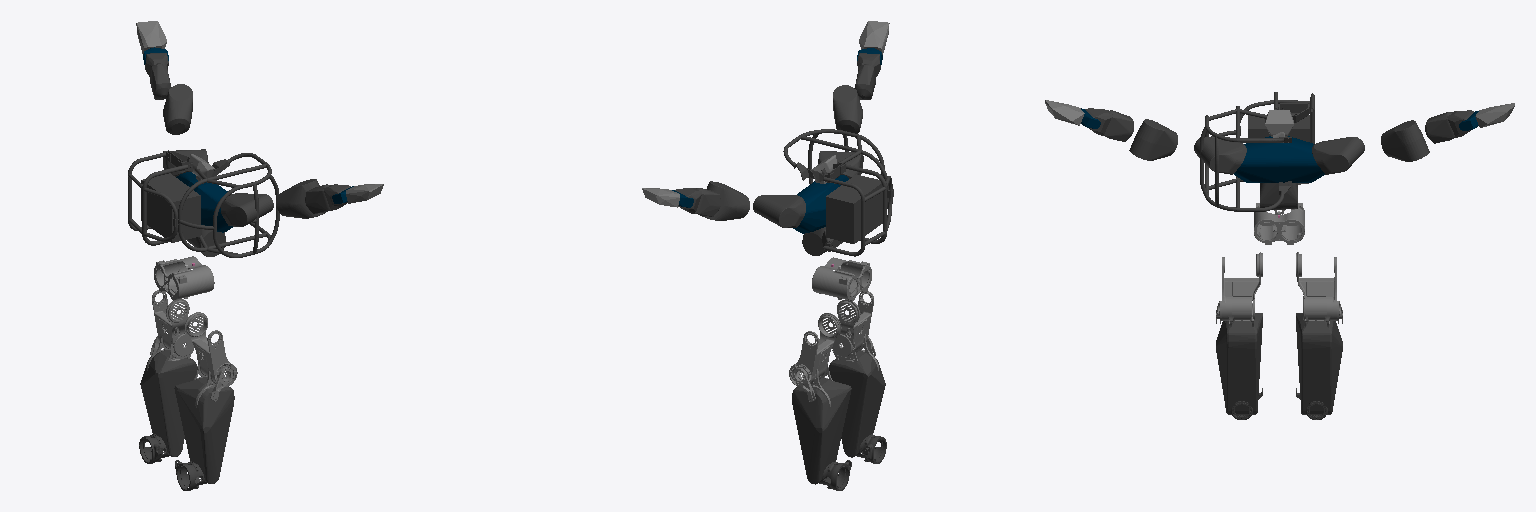
--- Facts derived from the render (not from the file) ---
3 views of the same robot in one strip: view 1: azimuth 30°, elevation 25°; view 2: azimuth 150°, elevation 25°; view 3: azimuth 270°, elevation 25° (orthographic).
Model bigman with 72 links and 71 joints (31 revolute, 40 fixed), rooted at base_link, posed all joints at 0 but 2 set to mid-range because 0 is outside their limits (RShLat = -1.99, LShLat = 1.97).
Visible links, largest first — view 1: TorsoProtections, RLowLeg, LLowLeg, backpack, RThighLowLeg, LThighLowLeg, Waist, RShp, LShy, DWYTorso, RShy, LSoftHandLink (+4 smaller); view 2: LLowLeg, RLowLeg, TorsoProtections, backpack, LThighLowLeg, RThighLowLeg, Waist, LShp, DWYTorso, RShy, LShy, RSoftHandLink (+4 smaller); view 3: LLowLeg, RLowLeg, TorsoProtections, DWYTorso, LThighLowLeg, RThighLowLeg, Waist, LShp, LShy, RShy, RShp, DWS (+6 smaller).
Link boxes in pixels (x1=…): TorsoProtections: x1=128, y1=150, x2=279, y2=257; RLowLeg: x1=174, y1=377, x2=234, y2=483; LLowLeg: x1=140, y1=350, x2=196, y2=456; backpack: x1=141, y1=173, x2=200, y2=242; RThighLowLeg: x1=185, y1=312, x2=237, y2=407; LThighLowLeg: x1=147, y1=290, x2=193, y2=370; Waist: x1=154, y1=256, x2=214, y2=300; RShp: x1=220, y1=193, x2=273, y2=226; LShy: x1=163, y1=84, x2=192, y2=134; DWYTorso: x1=176, y1=172, x2=232, y2=232; RShy: x1=276, y1=179, x2=324, y2=218; LSoftHandLink: x1=136, y1=21, x2=166, y2=53; LLowLeg: x1=792, y1=378, x2=851, y2=484; RLowLeg: x1=829, y1=351, x2=885, y2=457; TorsoProtections: x1=783, y1=129, x2=893, y2=256; backpack: x1=826, y1=174, x2=882, y2=243; LThighLowLeg: x1=789, y1=313, x2=841, y2=408; RThighLowLeg: x1=832, y1=291, x2=878, y2=370; Waist: x1=812, y1=257, x2=871, y2=301; LShp: x1=753, y1=195, x2=805, y2=227; DWYTorso: x1=793, y1=175, x2=848, y2=233; RShy: x1=833, y1=85, x2=862, y2=133; LShy: x1=702, y1=181, x2=749, y2=220; RSoftHandLink: x1=859, y1=21, x2=889, y2=54; LLowLeg: x1=1296, y1=313, x2=1342, y2=414; RLowLeg: x1=1216, y1=313, x2=1262, y2=414; TorsoProtections: x1=1200, y1=92, x2=1314, y2=211; DWYTorso: x1=1234, y1=136, x2=1324, y2=182; LThighLowLeg: x1=1296, y1=252, x2=1342, y2=327; RThighLowLeg: x1=1216, y1=252, x2=1262, y2=326; Waist: x1=1254, y1=203, x2=1304, y2=244; LShp: x1=1312, y1=137, x2=1364, y2=174; LShy: x1=1381, y1=120, x2=1429, y2=161; RShy: x1=1129, y1=119, x2=1177, y2=160; RShp: x1=1194, y1=137, x2=1246, y2=174; DWS: x1=1260, y1=183, x2=1297, y2=209.
Bounding box of the posed robot: 0.7354 × 2.28 × 1.88 m (x, y, z).
Meshes: 21 distinct files referenced, 24 mesh visuals loaded (15 binary STL); not drawn: 2 (reference not matched to a file when rendering), 9 (file found but could not be loaded).

URDF robot description (bigman):
<?xml version="1.0" ?>
<!-- =================================================================================== -->
<!-- |    This document was autogenerated by xacro from bigman.urdf.xacro              | -->
<!-- |    EDITING THIS FILE BY HAND IS NOT RECOMMENDED                                 | -->
<!-- =================================================================================== -->
<robot name="bigman" xmlns:xacro="http://ros.org/wiki/xacro">
  <!-- 
  ROS urdf definition of the BIGMAN humanoid robot by Istituto Italiano di Tecnologia
  
  DO NOT INCLUDE THIS FILE DIRECTLY! USE bigman_robot.urdf.xacro INSTEAD!

  Author: Enrico Mingo & Alessio Rocchi

  Inertial matrix has to be in CoM frame (URDF specs)

  Velocity and effort limits are fake!
-->
  <material name="grey">
    <color rgba="0.5 0.5 0.5 1"/>
  </material>
  <material name="dark_grey">
    <color rgba="0.3 0.3 0.3 1"/>
  </material>
  <material name="blue">
    <color rgba="0.0 0.2 0.3 1"/>
  </material>
  <!-- 
  ROS urdf definition of the BIGMAN humanoid robot by Istituto Italiano di Tecnologia
  
  DO NOT INCLUDE THIS FILE DIRECTLY! USE bigman_robot.urdf.xacro INSTEAD!

  Author: Enrico Mingo & Alessio Rocchi

  Inertial matrix has to be in CoM frame (URDF specs)

  Velocity and effort limits are fake!
-->
  <!--
The coordinate frame called base_link is rigidly attached to the robot root body. It is recommended to choose the robot waist as its root body. The base_link can be attached to the root in any arbitrary position or orientation; for every hardware platform there will be a different place on the base that provides an obvious point of reference. Note that REP 103 [1] specifies a preferred orientation for frames. -->
  <link name="base_link"/>
  <link name="Waist">
    <inertial>
      <origin rpy="0.0 0.0 0.0" xyz="-0.022813402 -0.00073935443 0.030422909"/>
      <mass value="1.1046081e+01"/>
      <inertia ixx="0.096207978" ixy="0.00014081043" ixz="0.0031258127" iyy="0.098511158" iyz="0.00013938149" izz="0.086541531"/>
    </inertial>
    <visual>
      <origin rpy="0 0 0" xyz="0 0 0"/>
      <geometry name="Waist_visual">
        <mesh filename="package://bigman_urdf/meshes/Waist.STL" scale="0.001 0.001 0.001"/>
      </geometry>
      <material name="grey"/>
    </visual>
    <collision>
      <origin rpy="0 0 0" xyz="0 0 0"/>
      <geometry name="Waist_collision">
        <mesh filename="package://bigman_urdf/meshes/simple/Waist.STL" scale="0.001 0.001 0.001"/>
      </geometry>
    </collision>
  </link>
  <joint name="base_joint" type="fixed">
    <parent link="base_link"/>
    <child link="Waist"/>
    <origin rpy="0 0 0" xyz="0 0 0"/>
  </joint>
  <!-- Scale factor for meshes -->
  <!-- LINKS -->
  <!-- This links are defined in order to be compliant with http://www.ros.org/reps/rep-0120.html#coordinate-frames
and to define the end effectors of the robot-->
  <!-- The coordinate frame called torso is attached to the lowest body of the model which is a parent of l_gripper, r_gripper and gaze. -->
  <link name="torso"/>
  <link name="DWL">
    <inertial>
      <origin rpy="0 0 0" xyz="-0.04610869 0.02232230 -0.02249514"/>
      <mass value="1.44965471"/>
      <inertia ixx="0.01096760" ixy="0.00111556" ixz="0.00030030" iyy="0.00409572" iyz="0.00054456" izz="0.01143795"/>
    </inertial>
    <visual>
      <origin rpy="0 0 0" xyz="0.0 0.0 0.0"/>
      <geometry name="DWL_visual">
        <mesh filename="package://bigman_urdf/meshes/TorsoRoll.STL" scale="0.001 0.001 0.001"/>
      </geometry>
      <material name="dark_grey"/>
    </visual>
    <collision>
      <origin rpy="0 0 0" xyz="0.0 0.0 0.0"/>
      <geometry name="DWL_collision">
        <mesh filename="package://bigman_urdf/meshes/simple/TorsoRoll.STL" scale="0.001 0.001 0.001"/>
      </geometry>
    </collision>
  </link>
  <link name="DWS">
    <inertial>
      <origin rpy="0 0 0" xyz="0.00010203 0.00928164 0.08113610"/>
      <mass value="5.28825567"/>
      <inertia ixx="0.01628069" ixy="-0.00000323" ixz="0.00001424" iyy="0.01424286" iyz="0.00075458" izz="0.00994169"/>
    </inertial>
    <visual>
      <origin rpy="0 0 0" xyz="0.0 0.0 0.0"/>
      <geometry name="DWS_visual">
        <mesh filename="package://bigman_urdf/meshes/TorsoYawPitch.STL" scale="0.001 0.001 0.001"/>
      </geometry>
      <material name="dark_grey"/>
    </visual>
    <collision>
      <origin rpy="0 0 0" xyz="0.0 0.0 0.0"/>
      <geometry name="DWS_collision">
        <mesh filename="package://bigman_urdf/meshes/simple/TorsoYawPitch.STL" scale="0.001 0.001 0.001"/>
      </geometry>
    </collision>
  </link>
  <link name="DWYTorso">
    <inertial>
      <origin rpy="0 0 0" xyz="0.0 0.00 0.3"/>
      <mass value="26"/>
      <inertia ixx="0.18629757" ixy="0.00008160" ixz="0.00030250" iyy="0.02013829" iyz="-0.00001790" izz="0.18850541"/>
    </inertial>
    <visual>
      <origin rpy="0 0 0" xyz="0.0 0.0 0.0"/>
      <geometry name="DWYTorso_visual">
        <mesh filename="package://bigman_urdf/meshes/NewChest.STL" scale="0.001 0.001 0.001"/>
      </geometry>
      <material name="blue"/>
    </visual>
    <collision>
      <origin rpy="0 0 0" xyz="0.0 0.0 0.0"/>
      <geometry name="DWYTorso_collision">
        <mesh filename="package://bigman_urdf/meshes/simple/NewChest.STL" scale="0.001 0.001 0.001"/>
      </geometry>
    </collision>
  </link>
  <link name="TorsoProtections">
    <inertial>
      <origin rpy="0 0 0" xyz="-0.082963193 7.0747291e-07 0.075409106"/>
      <mass value="4.7"/>
      <inertia ixx="0.14773769" ixy="0.0" ixz="-0.029780072" iyy="0.16085511" iyz="0.0" izz="0.15409381"/>
    </inertial>
    <visual>
      <origin rpy="0 0 0" xyz="0.0 0.0 0.0"/>
      <geometry name="TorsoProtections_visual">
        <mesh filename="package://bigman_urdf/meshes/ProtectionSystem.STL" scale="0.001 0.001 0.001"/>
      </geometry>
      <material name="dark_grey"/>
    </visual>
    <collision>
      <origin rpy="0 0 0" xyz="0.0 0.0 0.0"/>
      <geometry name="TorsoProtections_collision">
        <mesh filename="package://bigman_urdf/meshes/simple/ProtectionSystem.STL" scale="0.001 0.001 0.001"/>
      </geometry>
    </collision>
  </link>
  <link name="backpack">
    <inertial>
      <origin rpy="0 0 0" xyz="0 0 -0.065"/>
      <mass value="10.0"/>
      <inertia ixx="0.0890833333333" ixy="0.0" ixz="0.0" iyy="0.0354166666667" iyz="0.0" izz="0.0963333333333"/>
    </inertial>
    <visual>
      <origin rpy="0 0 0" xyz="0.0 0.0 0.0"/>
      <geometry name="backpack_visual">
        <box size="0.16 0.3 0.22"/>
      </geometry>
      <material name="dark_grey"/>
    </visual>
    <collision>
      <origin rpy="0 0 0" xyz="0.0 0.0 0.0"/>
      <geometry name="backpack_collision">
        <box size="0.16 0.3 0.22"/>
      </geometry>
    </collision>
  </link>
  <joint name="backpack_joint" type="fixed">
    <parent link="DWYTorso"/>
    <child link="backpack"/>
    <origin rpy="0 0 0" xyz="-0.185 0 -0.025"/>
  </joint>
  <joint name="torso_protection_joint" type="fixed">
    <parent link="DWYTorso"/>
    <child link="TorsoProtections"/>
    <origin rpy="0 0 0" xyz="0.0 0 0.0"/>
  </joint>
  <joint name="torso_joint" type="fixed">
    <parent link="DWYTorso"/>
    <child link="torso"/>
    <origin rpy="0 0 0" xyz="0.0 0 0.0"/>
  </joint>
  <joint name="WaistLat" type="revolute">
    <parent link="Waist"/>
    <child link="DWL"/>
    <origin rpy="0 0 0" xyz="0.1115 0 0.195982"/>
    <axis xyz="0.89879991307 0 0.43835911792"/>
    <limit effort="120" lower="-0.610865238198" upper="0.610865238198" velocity="6.283"/>
    <dynamics damping="3.0" friction="0"/>
  </joint>
  <joint name="WaistSag" type="revolute">
    <parent link="DWL"/>
    <child link="DWS"/>
    <origin rpy="0 0 0" xyz="0 0 0"/>
    <axis xyz="0 1 0"/>
    <limit effort="220" lower="-0.349065850399" upper="1.3962634016" velocity="6.283"/>
    <dynamics damping="3.0" friction="0"/>
  </joint>
  <joint name="WaistYaw" type="revolute">
    <parent link="DWS"/>
    <child link="DWYTorso"/>
    <origin rpy="0 0 0" xyz="0 0 0.22275"/>
    <axis xyz="0 0 1"/>
    <limit effort="120" lower="-2.84488668075" upper="2.84488668075" velocity="6.283"/>
    <dynamics damping="3.0" friction="0"/>
  </joint>
  <!-- LINKS -->
  <link name="NeckYaw">
    <inertial>
      <origin rpy="0 0 0" xyz="0.0 0.0 0.1155"/>
      <mass value="0.35"/>
      <inertia ixx="0.00032840119" ixy="0.0" ixz="0.0" iyy="7.0371675e-05" iyz="0.0" izz="0.00032840111"/>
    </inertial>
    <visual>
      <origin rpy="0 0 0" xyz="0.0 0.0 0.0"/>
      <geometry name="NeckYaw_visual">
        <mesh filename="package://bigman_urdf/meshes/NeckYaw.STL" scale="0.001 0.001 0.001"/>
      </geometry>
      <material name="grey"/>
    </visual>
    <collision>
      <origin rpy="0 0 0" xyz="0.0 0.0 0.0"/>
      <geometry name="NeckYaw_collision">
        <mesh filename="package://bigman_urdf/meshes/simple/NeckYaw.STL" scale="0.001 0.001 0.001"/>
      </geometry>
    </collision>
  </link>
  <link name="NeckPitch">
    <inertial>
      <origin rpy="0 0 0" xyz="-0.102 0.0 0.26575"/>
      <mass value="0.623"/>
      <inertia ixx="0.0010388333" ixy="0.0" ixz="0.0" iyy="0.00054689381" iyz="0.0" izz="0.00054689381"/>
    </inertial>
    <visual>
      <origin rpy="0 0 0" xyz="0.0 0.0 0.0"/>
      <geometry name="NeckPitch_visual">
        <mesh filename="package://bigman_urdf/meshes/NeckPitch.STL" scale="0.001 0.001 0.001"/>
      </geometry>
      <material name="grey"/>
    </visual>
    <collision>
      <origin rpy="0 0 0" xyz="0.0 0.0 0.0"/>
      <geometry name="NeckPitch_collision">
        <mesh filename="package://bigman_urdf/meshes/simple/NeckPitch.STL" scale="0.001 0.001 0.001"/>
      </geometry>
    </collision>
  </link>
  <!-- JOINTS -->
  <joint name="NeckYawj" type="revolute">
    <parent link="DWYTorso"/>
    <child link="NeckYaw"/>
    <origin rpy="0 0 0" xyz="0 0 0"/>
    <axis xyz="0 0 1"/>
    <!--     <limit velocity="6.283" effort="120" lower="${(-175.0)*toRad}" upper="${(175.0)*toRad}" /> -->
    <limit effort="120" lower="-0.610865238198" upper="0.610865238198" velocity="6.283"/>
    <dynamics damping="3.0" friction="0"/>
  </joint>
  <joint name="NeckPitchj" type="revolute">
    <parent link="NeckYaw"/>
    <child link="NeckPitch"/>
    <origin rpy="0 0 0" xyz="0 0 0.117"/>
    <axis xyz="0 1 0"/>
    <!--limit velocity="6.283" effort="120" lower="${(-30.0)*toRad}" upper="${(70.0)*toRad}" /-->
    <limit effort="120" lower="-0.261799387799" upper="1.0471975512" velocity="6.283"/>
    <dynamics damping="3.0" friction="0"/>
  </joint>
  <!-- ********************LEGS******************** -->
  <!-- This links are defined in order to be compliant with http://www.ros.org/reps/rep-0120.html#coordinate-frames
	and to define the end effectors of the robot -->
  <!--  position and orientation of the leg regardless of the support body geometry -->
  <link name="l_ankle"/>
  <link name="r_ankle"/>
  <!-- position and orientation of the left leg support body. The (X,Y) plane of this frame must be coplanar with the support body contact surface. It is recommended to choose the origin as the projection of the support body origin on the contact surface. The Z coordinate of this frame should be on the ground level when standing. -->
  <link name="l_sole"/>
  <link name="r_sole"/>
  <!--  position and orientation of the leg toe body. The (X,Y) plan of this frame must be coplanar with the toe body contact surface. It is recommended to choose the origin as the projection of the body center on the contact surface. -->
  <link name="l_toe"/>
  <link name="r_toe"/>
  <!-- LINKS -->
  <!-- ********************RIGHT LEG******************** -->
  <link name="RHipMot">
    <inertial>
      <origin rpy="0 0 0" xyz="-0.10348188 -0.10919813 -0.064924056"/>
      <mass value="3.7958197"/>
      <inertia ixx="0.015639017" ixy="0.0018504661" ixz="0.0023907793" iyy="0.023519749" iyz="-0.0023303162" izz="0.020953643"/>
    </inertial>
    <visual>
      <origin rpy="0 0 0" xyz="0 0 0"/>
      <geometry name="RHipMot_visual">
        <mesh filename="package://bigman_urdf/meshes/HipRoll.STL" scale="0.001 0.001 0.001"/>
      </geometry>
      <material name="dark_grey"/>
    </visual>
    <collision>
      <origin rpy="0 0 0" xyz="0 0 0"/>
      <geometry name="RHipMot_collision">
        <mesh filename="package://bigman_urdf/meshes/simple/HipRoll.STL" scale="0.001 0.001 0.001"/>
      </geometry>
    </collision>
  </link>
  <link name="RThighUpLeg">
    <inertial>
      <origin rpy="0 0 0" xyz="-0.0052929709 -0.022561833 0.0056701669"/>
      <mass value="3.2402068"/>
      <inertia ixx="0.010102097" ixy="0.00010858487" ixz="0.00025291395" iyy="0.0067147" iyz="8.3447072e-05" izz="0.01048513"/>
    </inertial>
    <visual>
      <origin rpy="0 0 0" xyz="0 0 0"/>
      <geometry name="RThighUpLeg_visual">
        <mesh filename="package://bigman_urdf/meshes/HipYaw.STL" scale="0.001 0.001 0.001"/>
      </geometry>
      <material name="dark_grey"/>
    </visual>
    <collision>
      <origin rpy="0 0 0" xyz="0 0 0"/>
      <geometry name="RThighUpLeg_collision">
        <mesh filename="package://bigman_urdf/meshes/simple/HipYaw.STL" scale="0.001 0.001 0.001"/>
      </geometry>
    </collision>
  </link>
  <link name="RThighLowLeg">
    <inertial>
      <origin rpy="0 0 0" xyz="0.037746286 -0.028539939 -0.19310133"/>
      <mass value="5.0950736"/>
      <inertia ixx="0.051607858" ixy="0.0022253472" ixz="0.002452979" iyy="0.044349153" iyz="-0.0041006942" izz="0.023374453"/>
    </inertial>
    <visual>
      <origin rpy="0 0 0" xyz="0 0 0"/>
      <geometry name="RThighLowLeg_visual">
        <mesh filename="package://bigman_urdf/meshes/HipPitch.STL" scale="0.001 0.001 0.001"/>
      </geometry>
      <material name="grey"/>
    </visual>
    <collision>
      <origin rpy="0 0 0" xyz="0 0 0"/>
      <geometry name="RThighLowLeg_collision">
        <mesh filename="package://bigman_urdf/meshes/simple/HipPitch.STL" scale="0.001 0.001 0.001"/>
      </geometry>
    </collision>
  </link>
  <link name="RLowLeg">
    <inertial>
      <origin rpy="0 0 0" xyz="-0.0050828668 0.0037732093 -0.072605017"/>
      <mass value="5.6495309"/>
      <inertia ixx="0.10535542" ixy="-0.00058199221" ixz="0.0016743598" iyy="0.097857796" iyz="-0.0033770181" izz="0.020854086"/>
    </inertial>
    <visual>
      <origin rpy="0 0 0" xyz="0 0 0"/>
      <geometry name="RLowLeg_visual">
        <mesh filename="package://bigman_urdf/meshes/KneePitchCalf.STL" scale="0.001 0.001 0.001"/>
      </geometry>
      <material name="dark_grey"/>
    </visual>
    <collision>
      <origin rpy="0 0 0" xyz="0 0 0"/>
      <geometry name="RLowLeg_collision">
        <mesh filename="package://bigman_urdf/meshes/simple/KneePitchCalf.STL" scale="0.001 0.001 0.001"/>
      </geometry>
    </collision>
  </link>
  <link name="RFootmot">
    <inertial>
      <origin rpy="0 0 0" xyz="-0.022024173 0.0025677238 0.00094588455"/>
      <mass value="3.2844159"/>
      <inertia ixx="0.0075550679" ixy="0.00067488292" ixz="5.8332889e-05" iyy="0.011241163" iyz="-0.00014552081" izz="0.013391865"/>
    </inertial>
    <visual>
      <origin rpy="0 0 0" xyz="0 0 0"/>
      <geometry name="RFootmot_visual">
        <mesh filename="package://bigman_urdf/meshes/AnklePitch.STL" scale="0.001 0.001 0.001"/>
      </geometry>
      <material name="dark_grey"/>
    </visual>
    <collision>
      <origin rpy="0 0 0" xyz="0 0 0"/>
      <geometry name="RFootmot_collision">
        <mesh filename="package://bigman_urdf/meshes/simple/AnklePitch.STL" scale="0.001 0.001 0.001"/>
      </geometry>
    </collision>
  </link>
  <link name="RFoot">
    <inertial>
      <origin rpy="0 0 0" xyz="-0.00653584 -0.00479384 -0.10180375"/>
      <mass value="3.42638110"/>
      <inertia ixx="0.01032886" ixy="-0.00016407" ixz="-0.00201294" iyy="0.02854025" iyz="0.00046315" izz="0.02799499"/>
    </inertial>
    <visual>
      <origin rpy="0 0 0" xyz="0 0 0"/>
      <geometry name="RFoot_visual">
        <mesh filename="package://bigman_urdf/meshes/NewFoot.STL" scale="0.001 0.001 0.001"/>
      </geometry>
      <material name="dark_grey"/>
    </visual>
    <collision>
      <origin rpy="0 0 0" xyz="0.005 -0.01 -0.1359"/>
      <geometry>
        <box size="0.32 0.16 0.015"/>
      </geometry>
    </collision>
  </link>
  <!-- ********************LEFT LEG******************** -->
  <link name="LHipMot">
    <inertial>
      <origin rpy="0 0 0" xyz="-0.10348188 0.10919813 -0.064924056"/>
      <mass value="3.7958197"/>
      <inertia ixx="0.015639017" ixy="-0.0018504661" ixz="0.0023907793" iyy="0.023519749" iyz="0.0023303162" izz="0.020953643"/>
    </inertial>
    <visual>
      <origin rpy="0 0 0" xyz="0 0 0"/>
      <geometry name="LHipMot_visual">
        <mesh filename="package://bigman_urdf/meshes/HipRoll.STL" scale="0.001 -0.001 0.001"/>
      </geometry>
      <material name="dark_grey"/>
    </visual>
    <collision>
      <origin rpy="0 0 0" xyz="0 0 0"/>
      <geometry name="LHipMot_collision">
        <mesh filename="package://bigman_urdf/meshes/simple/HipRoll.STL" scale="0.001 -0.001 0.001"/>
      </geometry>
    </collision>
  </link>
  <link name="LThighUpLeg">
    <inertial>
      <origin rpy="0 0 0" xyz="-0.0052929709 0.022561833 0.0056701669"/>
      <mass value="3.2402068"/>
      <inertia ixx="0.010102097" ixy="-0.00010858487" ixz="0.00025291395" iyy="0.0067147" iyz="-8.3447072e-05" izz="0.01048513"/>
    </inertial>
    <visual>
      <origin rpy="0 0 0" xyz="0 0 0"/>
      <geometry name="LThighUpLeg_visual">
        <mesh filename="package://bigman_urdf/meshes/HipYaw.STL" scale="0.001 -0.001 0.001"/>
      </geometry>
      <material name="dark_grey"/>
    </visual>
    <collision>
      <origin rpy="0 0 0" xyz="0 0 0"/>
      <geometry name="LThighUpLeg_collision">
        <mesh filename="package://bigman_urdf/meshes/simple/HipYaw.STL" scale="0.001 -0.001 0.001"/>
      </geometry>
    </collision>
  </link>
  <link name="LThighLowLeg">
    <inertial>
      <origin rpy="0 0 0" xyz="0.037746286 0.028539939 -0.19310133"/>
      <mass value="5.0950736"/>
      <inertia ixx="0.051607858" ixy="-0.0022253472" ixz="0.002452979" iyy="0.044349153" iyz="0.0041006942" izz="0.023374453"/>
    </inertial>
    <visual>
      <origin rpy="0 0 0" xyz="0 0 0"/>
      <geometry name="LThighLowLeg_visual">
        <mesh filename="package://bigman_urdf/meshes/HipPitch.STL" scale="0.001 -0.001 0.001"/>
      </geometry>
      <material name="grey"/>
    </visual>
    <collision>
      <origin rpy="0 0 0" xyz="0 0 0"/>
      <geometry name="LThighLowLeg_collision">
        <mesh filename="package://bigman_urdf/meshes/simple/HipPitch.STL" scale="0.001 -0.001 0.001"/>
      </geometry>
    </collision>
  </link>
  <link name="LLowLeg">
    <inertial>
      <origin rpy="0 0 0" xyz="-0.0050828668 -0.0037732093 -0.072605017"/>
      <mass value="5.6495309"/>
      <inertia ixx="0.10535542" ixy="0.00058199221" ixz="0.0016743598" iyy="0.097857796" iyz="0.0033770181" izz="0.020854086"/>
    </inertial>
    <visual>
      <origin rpy="0 0 0" xyz="0 0 0"/>
      <geometry name="LLowLeg_visual">
        <mesh filename="package://bigman_urdf/meshes/KneePitchCalf.STL" scale="0.001 -0.001 0.001"/>
      </geometry>
      <material name="dark_grey"/>
    </visual>
    <collision>
      <origin rpy="0 0 0" xyz="0 0 0"/>
      <geometry name="LLowLeg_collision">
        <mesh filename="package://bigman_urdf/meshes/simple/KneePitchCalf.STL" scale="0.001 -0.001 0.001"/>
      </geometry>
    </collision>
  </link>
  <link name="LFootmot">
    <inertial>
      <origin rpy="0 0 0" xyz="-0.022024173 -0.0025677238 0.00094588455"/>
      <mass value="3.2844159"/>
      <inertia ixx="0.0075550679" ixy="-0.00067488292" ixz="5.8332889e-05" iyy="0.011241163" iyz="0.00014552081" izz="0.013391865"/>
    </inertial>
    <visual>
      <origin rpy="0 0 0" xyz="0 0 0"/>
      <geometry name="LFootmot_visual">
        <mesh filename="package://bigman_urdf/meshes/AnklePitch.STL" scale="0.001 -0.001 0.001"/>
      </geometry>
      <material name="dark_grey"/>
    </visual>
    <collision>
      <origin rpy="0 0 0" xyz="0 0 0"/>
      <geometry name="LFootmot_collision">
        <mesh filename="package://bigman_urdf/meshes/simple/AnklePitch.STL" scale="0.001 -0.001 0.001"/>
      </geometry>
    </collision>
  </link>
  <link name="LFoot">
    <inertial>
      <origin rpy="0 0 0" xyz="-0.00653584 0.00479384 -0.10180375"/>
      <mass value="3.42638110"/>
      <inertia ixx="0.01032886" ixy="0.00016407" ixz="-0.00201294" iyy="0.02854025" iyz="-0.00046315" izz="0.02799499"/>
    </inertial>
    <visual>
      <origin rpy="0 0 0" xyz="0 0 0"/>
      <geometry name="LFoot_visual">
        <mesh filename="package://bigman_urdf/meshes/NewFoot.STL" scale="0.001 -0.001 0.001"/>
      </geometry>
      <material name="dark_grey"/>
    </visual>
    <collision>
      <origin rpy="0 0 0" xyz="0.005 0.01 -0.1359"/>
      <geometry>
        <box size="0.32 0.16 0.015"/>
      </geometry>
    </collision>
  </link>
  <!-- JOINTS -->
  <!-- ********************RIGHT LEG******************** -->
  <joint name="RHipLat" type="revolute">
    <parent link="Waist"/>
    <child link="RHipMot"/>
    <origin rpy="0 0 0" xyz="0.1059 -0.06 0.0"/>
    <axis xyz="1 0 0"/>
    <limit effort="400" lower="-0.87222" upper="0.697778" velocity="6.283"/>
    <dynamics damping="3.0" friction="0"/>
  </joint>
  <joint name="RHipYaw" type="revolute">
    <parent link="RHipMot"/>
    <child link="RThighUpLeg"/>
    <origin rpy="0 0 0" xyz="-0.0889 -0.121032 -0.217872"/>
    <axis xyz="0 0 1"/>
    <limit effort="140" lower="-1.57" upper="0.872222" velocity="6.283"/>
    <dynamics damping="3.0" friction="0"/>
  </joint>
  <joint name="RHipSag" type="revolute">
    <parent link="RThighUpLeg"/>
    <child link="RThighLowLeg"/>
    <origin rpy="0 0 0" xyz="0.0 0.0 0.0"/>
    <axis xyz="0 1 0"/>
    <limit effort="400" lower="-2.09333" upper="1.046667" velocity="6.283"/>
    <dynamics damping="3.0" friction="0"/>
  </joint>
  <joint name="RKneeSag" type="revolute">
    <parent link="RThighLowLeg"/>
    <child link="RLowLeg"/>
    <origin rpy="0 0 0" xyz="0.0 0.0 -0.356"/>
    <axis xyz="0 1 0"/>
    <limit effort="400" lower="0.0" upper="2.442222" velocity="6.283"/>
    <dynamics damping="3.0" friction="0"/>
  </joint>
  <joint name="RAnkSag" type="revolute">
    <parent link="RLowLeg"/>
    <child link="RFootmot"/>
    <origin rpy="0 0 0" xyz="0.0 0.0 -0.4"/>
    <axis xyz="0 1 0"/>
    <limit effort="330" lower="-1.39556" upper="0.697778" velocity="6.283"/>
    <dynamics damping="3.0" friction="0"/>
  </joint>
  <joint name="RAnkLat" type="revolute">
    <parent link="RFootmot"/>
    <child link="RFoot"/>
    <origin rpy="0 0 0" xyz="0.0 0.0 0.0"/>
    <axis xyz="1 0 0"/>
    <limit effort="210" lower="-0.785" upper="0.785" velocity="6.283"/>
    <dynamics damping="3.0" friction="0"/>
  </joint>
  <!-- ********************LEFT LEG******************** -->
  <joint name="LHipLat" type="revolute">
    <parent link="Waist"/>
    <child link="LHipMot"/>
    <origin rpy="0 0 0" xyz="0.1059 0.06 0.0"/>
    <axis xyz="1 0 0"/>
    <limit effort="400" lower="-0.697778" upper="0.87222" velocity="6.283"/>
    <dynamics damping="3.0" friction="0"/>
  </joint>
  <joint name="LHipYaw" type="revolute">
    <parent link="LHipMot"/>
    <child link="LThighUpLeg"/>
    <origin rpy="0 0 0" xyz="-0.0889 0.121032 -0.217872"/>
    <axis xyz="0 0 1"/>
    <limit effort="140" lower="-0.872222" upper="1.57" velocity="6.283"/>
    <dynamics damping="3.0" friction="0"/>
  </joint>
  <joint name="LHipSag" type="revolute">
    <parent link="LThighUpLeg"/>
    <child link="LThighLowLeg"/>
    <origin rpy="0 0 0" xyz="0.0 0.0 0.0"/>
    <axis xyz="0 1 0"/>
    <limit effort="400" lower="-2.09333" upper="1.046667" velocity="6.283"/>
    <dynamics damping="3.0" friction="0"/>
  </joint>
  <joint name="LKneeSag" type="revolute">
    <parent link="LThighLowLeg"/>
    <child link="LLowLeg"/>
    <origin rpy="0 0 0" xyz="0.0 0.0 -0.356"/>
    <axis xyz="0 1 0"/>
    <limit effort="400" lower="0.0" upper="2.442222" velocity="6.283"/>
    <dynamics damping="3.0" friction="0"/>
  </joint>
  <joint name="LAnkSag" type="revolute">
    <parent link="LLowLeg"/>
    <child link="LFootmot"/>
    <origin rpy="0 0 0" xyz="0.0 0.0 -0.4"/>
    <axis xyz="0 1 0"/>
    <limit effort="330" lower="-1.39556" upper="0.697778" velocity="6.283"/>
    <dynamics damping="3.0" friction="0"/>
  </joint>
  <joint name="LAnkLat" type="revolute">
    <parent link="LFootmot"/>
    <child link="LFoot"/>
    <origin rpy="0 0 0" xyz="0.0 0.0 0.0"/>
    <axis xyz="1 0 0"/>
    <limit effort="210" lower="-0.785" upper="0.785" velocity="6.283"/>
    <dynamics damping="3.0" friction="0"/>
  </joint>
  <joint name="l_ankle_joint" type="fixed">
    <parent link="LFoot"/>
    <child link="l_ankle"/>
    <origin rpy="0 0 0" xyz="0 0 0"/>
  </joint>
  <joint name="r_ankle_joint" type="fixed">
    <parent link="RFoot"/>
    <child link="r_ankle"/>
    <origin rpy="0 0 0" xyz="0 0 0"/>
  </joint>
  <joint name="l_sole_joint" type="fixed">
    <parent link="LFoot"/>
    <child link="l_sole"/>
    <origin rpy="0 0 0" xyz="0 0 -0.1435"/>
  </joint>
  <joint name="r_sole_joint" type="fixed">
    <parent link="RFoot"/>
    <child link="r_sole"/>
    <origin rpy="0 0 0" xyz="0 0 -0.1435"/>
  </joint>
  <joint name="l_toe_joint" type="fixed">
    <parent link="l_sole"/>
    <child link="l_toe"/>
    <origin rpy="0 0 0" xyz="0.16 0 0"/>
  </joint>
  <joint name="r_toe_joint" type="fixed">
    <parent link="r_sole"/>
    <child link="r_toe"/>
    <origin rpy="0 0 0" xyz="0.16 0 0"/>
  </joint>
  <!-- macro for one reference frame in foot -->
  <link name="l_foot_upper_right_link"/>
  <joint name="l_foot_upper_right_joint" type="fixed">
    <origin rpy="0 0 0" xyz="0.16 -0.07 0"/>
    <parent link="l_sole"/>
    <child link="l_foot_upper_right_link"/>
  </joint>
  <!-- macro for one reference frame in foot -->
  <link name="l_foot_upper_left_link"/>
  <joint name="l_foot_upper_left_joint" type="fixed">
    <origin rpy="0 0 0" xyz="0.16 0.09 0"/>
    <parent link="l_sole"/>
    <child link="l_foot_upper_left_link"/>
  </joint>
  <!-- macro for one reference frame in foot -->
  <link name="l_foot_lower_right_link"/>
  <joint name="l_foot_lower_right_joint" type="fixed">
    <origin rpy="0 0 0" xyz="-0.16 -0.07 0"/>
    <parent link="l_sole"/>
    <child link="l_foot_lower_right_link"/>
  </joint>
  <!-- macro for one reference frame in foot -->
  <link name="l_foot_lower_left_link"/>
  <joint name="l_foot_lower_left_joint" type="fixed">
    <origin rpy="0 0 0" xyz="-0.16 0.09 0"/>
    <parent link="l_sole"/>
    <child link="l_foot_lower_left_link"/>
  </joint>
  <!-- macro for one reference frame in foot -->
  <link name="r_foot_upper_right_link"/>
  <joint name="r_foot_upper_right_joint" type="fixed">
    <origin rpy="0 0 0" xyz="0.16 0.07 0"/>
    <parent link="r_sole"/>
    <child link="r_foot_upper_right_link"/>
  </joint>
  <!-- macro for one reference frame in foot -->
  <link name="r_foot_upper_left_link"/>
  <joint name="r_foot_upper_left_joint" type="fixed">
    <origin rpy="0 0 0" xyz="0.16 -0.09 0"/>
    <parent link="r_sole"/>
    <child link="r_foot_upper_left_link"/>
  </joint>
  <!-- macro for one reference frame in foot -->
  <link name="r_foot_lower_right_link"/>
  <joint name="r_foot_lower_right_joint" type="fixed">
    <origin rpy="0 0 0" xyz="-0.16 0.07 0"/>
    <parent link="r_sole"/>
    <child link="r_foot_lower_right_link"/>
  </joint>
  <!-- macro for one reference frame in foot -->
  <link name="r_foot_lower_left_link"/>
  <joint name="r_foot_lower_left_joint" type="fixed">
    <origin rpy="0 0 0" xyz="-0.16 -0.09 0"/>
    <parent link="r_sole"/>
    <child link="r_foot_lower_left_link"/>
  </joint>
  <!-- LINKS -->
  <!-- RIGHT ARM -->
  <link name="RShp">
    <inertial>
      <origin rpy="0 0 0" xyz="-0.00543349 -0.04480023 0.01581062"/>
      <mass value="1.81745527"/>
      <inertia ixx="0.00571053" ixy="0.00041083" ixz="-0.00005130" iyy="0.01126908" iyz="-0.00003461" izz="0.01371197"/>
    </inertial>
    <visual>
      <origin rpy="0 0 0" xyz="0 0 0"/>
      <geometry name="RShp_visual">
        <mesh filename="package://bigman_urdf/meshes/ShoulderPitch.STL" scale="0.001 0.001 0.001"/>
      </geometry>
      <material name="dark_grey"/>
    </visual>
    <collision>
      <origin rpy="0 0 0" xyz="0 0 0"/>
      <geometry name="RShp_collision">
        <mesh filename="package://bigman_urdf/meshes/simple/ShoulderPitch.STL" scale="0.001 0.001 0.001"/>
      </geometry>
    </collision>
  </link>
  <link name="RShr">
    <inertial>
      <origin rpy="0 0 0" xyz="0.00729315 0.00002698 -0.07529696"/>
      <mass value="5.00486460"/>
      <inertia ixx="0.01644345" ixy="-0.00001187" ixz="-0.00010546" iyy="0.01804804" iyz="-0.00000565" izz="0.00802420"/>
    </inertial>
    <visual>
      <origin rpy="0 0 0" xyz="0 0 0"/>
      <geometry name="RShr_visual">
        <mesh filename="package://bigman_urdf/meshes/TopUpperArm.STL" scale="0.001 0.001 0.001"/>
      </geometry>
      <material name="dark_grey"/>
    </visual>
    <collision>
      <origin rpy="0 0 0" xyz="0 0 0"/>
      <geometry name="RShr_collision">
        <mesh filename="package://bigman_urdf/meshes/simple/TopUpperArm.STL" scale="0.001 0.001 0.001"/>
      </geometry>
    </collision>
  </link>
  <link name="RShy">
    <inertial>
      <origin rpy="0 0 0" xyz="0.02765373 -0.03258647 -0.12698781"/>
      <mass value="3.20289133"/>
      <inertia ixx="0.01129046" ixy="0.00013518" ixz="-0.00134760" iyy="0.00984951" iyz="-0.00026836" izz="0.00728549"/>
    </inertial>
    <visual>
      <origin rpy="0 0 0" xyz="0 0 0"/>
      <geometry name="RShy_visual">
        <mesh filename="package://bigman_urdf/meshes/BottomUpperArm.STL" scale="0.001 0.001 0.001"/>
      </geometry>
      <material name="dark_grey"/>
    </visual>
    <collision>
      <origin rpy="0 0 0" xyz="0 0 0"/>
      <geometry name="RShy_collision">
        <mesh filename="package://bigman_urdf/meshes/simple/BottomUpperArm.STL" scale="0.001 0.001 0.001"/>
      </geometry>
    </collision>
  </link>
  <link name="RElb">
    <inertial>
      <origin rpy="0 0 0" xyz="-0.055754915 -0.007582604 -0.043820396"/>
      <mass value="8.6765385e-01"/>
      <inertia ixx="0.0040395238" ixy="0.00034973136" ixz="-0.00068400465" iyy="0.0022460561" iyz="0.00028844444" izz="0.0044895027"/>
    </inertial>
    <visual>
      <origin rpy="0 0 0" xyz="0 0 0"/>
      <geometry name="RElb_visual">
        <mesh filename="package://bigman_urdf/meshes/Elbow.STL" scale="0.001 0.001 0.001"/>
      </geometry>
      <material name="dark_grey"/>
    </visual>
    <collision>
      <origin rpy="0 0 0" xyz="0 0 0"/>
      <geometry name="RElb_collision">
        <mesh filename="package://bigman_urdf/meshes/simple/Elbow.STL" scale="0.001 0.001 0.001"/>
      </geometry>
    </collision>
  </link>
  <!-- LEFT ARM -->
  <link name="LShp">
    <inertial>
      <origin rpy="0 0 0" xyz="-0.00543349 0.04480023 0.01581062"/>
      <mass value="1.81745527"/>
      <inertia ixx="0.00571053" ixy="-0.00041083" ixz="-0.00005130" iyy="0.01126908" iyz="0.00003461" izz="0.01371197"/>
    </inertial>
    <visual>
      <origin rpy="0 0 0" xyz="0 0 0"/>
      <geometry name="LShp_visual">
        <mesh filename="package://bigman_urdf/meshes/ShoulderPitch.STL" scale="0.001 -0.001 0.001"/>
      </geometry>
      <material name="dark_grey"/>
    </visual>
    <collision>
      <origin rpy="0 0 0" xyz="0 0 0"/>
      <geometry name="LShp_collision">
        <mesh filename="package://bigman_urdf/meshes/simple/ShoulderPitch.STL" scale="0.001 -0.001 0.001"/>
      </geometry>
    </collision>
  </link>
  <link name="LShr">
    <inertial>
      <origin rpy="0 0 0" xyz="0.00729315 -0.00002698 -0.07529696"/>
      <mass value="5.00486460"/>
      <inertia ixx="0.01644345" ixy="0.00001187" ixz="-0.00010546" iyy="0.01804804" iyz="0.00000565" izz="0.00802420"/>
    </inertial>
    <visual>
      <origin rpy="0 0 0" xyz="0 0 0"/>
      <geometry name="LShr_visual">
        <mesh filename="package://bigman_urdf/meshes/TopUpperArm.STL" scale="0.001 -0.001 0.001"/>
      </geometry>
      <material name="dark_grey"/>
    </visual>
    <collision>
      <origin rpy="0 0 0" xyz="0 0 0"/>
      <geometry name="LShr_collision">
        <mesh filename="package://bigman_urdf/meshes/simple/TopUpperArm.STL" scale="0.001 -0.001 0.001"/>
      </geometry>
    </collision>
  </link>
  <link name="LShy">
    <inertial>
      <origin rpy="0 0 0" xyz="0.02765373 0.03258647 -0.12698781"/>
      <mass value="3.20289133"/>
      <inertia ixx="0.01129046" ixy="-0.00013518" ixz="-0.00134760" iyy="0.00984951" iyz="0.00026836" izz="0.00728549"/>
    </inertial>
    <visual>
      <origin rpy="0 0 0" xyz="0 0 0"/>
      <geometry name="LShy_visual">
        <mesh filename="package://bigman_urdf/meshes/BottomUpperArm.STL" scale="0.001 -0.001 0.001"/>
      </geometry>
      <material name="dark_grey"/>
    </visual>
    <collision>
      <origin rpy="0 0 0" xyz="0 0 0"/>
      <geometry name="LShy_collision">
        <mesh filename="package://bigman_urdf/meshes/simple/BottomUpperArm.STL" scale="0.001 -0.001 0.001"/>
      </geometry>
    </collision>
  </link>
  <link name="LElb">
    <inertial>
      <origin rpy="0 0 0" xyz="-0.055754915 0.007582604 -0.043820396"/>
      <mass value="8.6765385e-01"/>
      <inertia ixx="0.0040395238" ixy="-0.00034973136" ixz="-0.00068400465" iyy="0.0022460561" iyz="-0.00028844444" izz="0.0044895027"/>
    </inertial>
    <visual>
      <origin rpy="0 0 0" xyz="0 0 0"/>
      <geometry name="LElb_visual">
        <mesh filename="package://bigman_urdf/meshes/Elbow.STL" scale="0.001 -0.001 0.001"/>
      </geometry>
      <material name="dark_grey"/>
    </visual>
    <collision>
      <origin rpy="0 0 0" xyz="0 0 0"/>
      <geometry name="LElb_collision">
        <mesh filename="package://bigman_urdf/meshes/simple/Elbow.STL" scale="0.001 -0.001 0.001"/>
      </geometry>
    </collision>
  </link>
  <!-- JOINTS -->
  <!-- RIGHT ARM -->
  <joint name="RShSag" type="revolute">
    <parent link="DWYTorso"/>
    <child link="RShp"/>
    <origin rpy="0 0 0.3491" xyz="0.045646 -0.219164 0.001531"/>
    <axis xyz="0 0.743144825 -0.669130606"/>
    <limit effort="120" lower="-2.84488668075" upper="2.80998009571" velocity="6.283"/>
    <dynamics damping="3.0" friction="0"/>
  </joint>
  <joint name="RShLat" type="revolute">
    <parent link="RShp"/>
    <child link="RShr"/>
    <origin rpy="0 0 0" xyz="0.0 -0.116568264 0.03364"/>
    <axis xyz="1 0 0"/>
    <limit effort="120" lower="-3.85717764691" upper="-0.12217304764" velocity="6.283"/>
    <dynamics damping="3.0" friction="0"/>
  </joint>
  <joint name="RShYaw" type="revolute">
    <parent link="RShr"/>
    <child link="RShy"/>
    <origin rpy="0 0 0" xyz="0.0 0.0 -0.222"/>
    <axis xyz="0 0 1"/>
    <limit effort="120" lower="-2.86233997327" upper="2.82743338823" velocity="6.283"/>
    <dynamics damping="3.0" friction="0"/>
  </joint>
  <joint name="RElbj" type="revolute">
    <parent link="RShy"/>
    <child link="RElb"/>
    <origin rpy="0 0 0" xyz="0.036 0.0 -0.15"/>
    <axis xyz="0 1 0"/>
    <limit effort="120" lower="-2.96705972839" upper="0.593411945678" velocity="6.283"/>
    <dynamics damping="3.0" friction="0"/>
  </joint>
  <!-- LEFT ARM -->
  <joint name="LShSag" type="revolute">
    <parent link="DWYTorso"/>
    <child link="LShp"/>
    <origin rpy="0 0 -0.3491" xyz="0.045646 0.219164 0.001531"/>
    <axis xyz="0.0 0.743144825 0.669130606"/>
    <limit effort="120" lower="-2.87979326579" upper="2.79252680319" velocity="6.283"/>
    <dynamics damping="3.0" friction="0"/>
  </joint>
  <joint name="LShLat" type="revolute">
    <parent link="LShp"/>
    <child link="LShr"/>
    <origin rpy="0 0 0" xyz="0.0 0.116568264 0.03364"/>
    <axis xyz="1 0 0"/>
    <limit effort="120" lower="0.0872664625997" upper="3.85717764691" velocity="6.283"/>
    <dynamics damping="3.0" friction="0"/>
  </joint>
  <joint name="LShYaw" type="revolute">
    <parent link="LShr"/>
    <child link="LShy"/>
    <origin rpy="0 0 0" xyz="0.0 0.0 -0.222"/>
    <axis xyz="0 0 1"/>
    <limit effort="120" lower="-2.84488668075" upper="2.84488668075" velocity="6.283"/>
    <dynamics damping="3.0" friction="0"/>
  </joint>
  <joint name="LElbj" type="revolute">
    <parent link="LShy"/>
    <child link="LElb"/>
    <origin rpy="0 0 0" xyz="0.036 0.0 -0.15"/>
    <axis xyz="0 1 0"/>
    <limit effort="120" lower="-2.96705972839" upper="0.593411945678" velocity="6.283"/>
    <dynamics damping="3.0" friction="0"/>
  </joint>
  <!-- ***** LEGS F/T SENSOR REF FRAMES *******-->
  <link name="l_leg_ft"/>
  <link name="r_leg_ft"/>
  <joint name="l_leg_ft_joint" type="fixed">
    <parent link="LFoot"/>
    <child link="l_leg_ft"/>
    <origin rpy="0 0 0" xyz="0.005 0 -0.107"/>
  </joint>
  <joint name="r_leg_ft_joint" type="fixed">
    <parent link="RFoot"/>
    <child link="r_leg_ft"/>
    <origin rpy="0 0 0" xyz="0.005 0 -0.107"/>
  </joint>
  <link name="l_arm_ft"/>
  <link name="r_arm_ft"/>
  <joint name="l_arm_ft_joint" type="fixed">
    <parent link="LWrMot3"/>
    <child link="l_arm_ft"/>
    <origin rpy="0 0 0" xyz="0 0 -0.0565"/>
  </joint>
  <joint name="r_arm_ft_joint" type="fixed">
    <parent link="RWrMot3"/>
    <child link="r_arm_ft"/>
    <origin rpy="0 0 0" xyz="0 0 -0.0565"/>
  </joint>
  <!-- ************ FOREARMS ************ -->
  <!-- This links are defined in order to be compliant with http://www.ros.org/reps/rep-0120.html#coordinate-frames
	and to define the end effectors of the robot -->
  <!-- position and orientation of the arm regardless of the tool (grasping device for instance) attached to it -->
  <link name="l_wrist"/>
  <link name="r_wrist"/>
  <!-- ****************LINKS**************** -->
  <!-- ****************LEFT FOREARM**************** -->
  <link name="LForearm">
    <inertial>
      <origin rpy="0 0 0" xyz="1.2625599e-05 0.0042975381 0.044717986"/>
      <mass value="2.2127686"/>
      <inertia ixx="0.0065428368" ixy="-4.1196967e-05" ixz="3.272727e-06" iyy="0.005587829" iyz="0.00042088668" izz="0.0024783023"/>
    </inertial>
    <visual>
      <origin rpy="0 0 0" xyz="0 0 0"/>
      <geometry name="LForearm_visual">
        <mesh filename="package://bigman_urdf/meshes/Forearm.STL" scale="0.001 -0.001 0.001"/>
      </geometry>
      <material name="dark_grey"/>
    </visual>
    <collision>
      <origin rpy="0 0 0" xyz="0 0 0"/>
      <geometry name="LForearm_collision">
        <mesh filename="package://bigman_urdf/meshes/simple/Forearm.STL" scale="0.001 -0.001 0.001"/>
      </geometry>
    </collision>
  </link>
  <link name="LWrMot2">
    <inertial>
      <origin rpy="0 0 0" xyz="0.009819377 0.0013797184 -0.080380065"/>
      <mass value="1.2838072"/>
      <inertia ixx="0.001994124" ixy="2.569706e-05" ixz="0.00017443538" iyy="0.0021755329" iyz="-0.00012100987" izz="0.001830376"/>
    </inertial>
    <visual>
      <origin rpy="0 0 0" xyz="0 0 0"/>
      <geometry name="LWrMot2_visual">
        <mesh filename="package://bigman_urdf/meshes/ForearmPitch.STL" scale="0.001 -0.001 0.001"/>
      </geometry>
      <material name="dark_grey"/>
    </visual>
    <collision>
      <origin rpy="0 0 0" xyz="0 0 0"/>
      <geometry name="LWrMot2_collision">
        <mesh filename="package://bigman_urdf/meshes/simple/ForearmPitch.STL" scale="0.001 -0.001 0.001"/>
      </geometry>
    </collision>
  </link>
  <link name="LWrMot3">
    <inertial>
      <origin rpy="0 0 0" xyz="0.0070380706 -1.0811188e-05 -0.039669274"/>
      <mass value="4.2801447e-01"/>
      <inertia ixx="0.00028620156" ixy="5.2570457e-08" ixz="-3.9174213e-05" iyy="0.00071261855" iyz="-9.5020266e-08" izz="0.00061444258"/>
    </inertial>
    <visual>
      <origin rpy="0 0 0" xyz="0 0 0"/>
      <geometry name="LWrMot3_visual">
        <mesh filename="package://bigman_urdf/meshes/ForearmRoll.STL" scale="0.001 -0.001 0.001"/>
      </geometry>
      <material name="blue"/>
    </visual>
    <collision>
      <origin rpy="0 0 0" xyz="0 0 0"/>
      <geometry name="LWrMot3_collision">
        <mesh filename="package://bigman_urdf/meshes/simple/ForearmRoll.STL" scale="0.001 -0.001 0.001"/>
      </geometry>
    </collision>
  </link>
  <!-- ****************RIGHT FOREARM**************** -->
  <link name="RForearm">
    <inertial>
      <origin rpy="0 0 0" xyz="1.2625599e-05 -0.0042975381 0.044717986"/>
      <mass value="2.2127686"/>
      <inertia ixx="0.0065428368" ixy="4.1196967e-05" ixz="3.272727e-06" iyy="0.005587829" iyz="-0.00042088668" izz="0.0024783023"/>
    </inertial>
    <visual>
      <origin rpy="0 0 0" xyz="0 0 0"/>
      <geometry name="RForearm_visual">
        <mesh filename="package://bigman_urdf/meshes/Forearm.STL" scale="0.001 0.001 0.001"/>
      </geometry>
      <material name="dark_grey"/>
    </visual>
    <collision>
      <origin rpy="0 0 0" xyz="0 0 0"/>
      <geometry name="RForearm_collision">
        <mesh filename="package://bigman_urdf/meshes/simple/Forearm.STL" scale="0.001 0.001 0.001"/>
      </geometry>
    </collision>
  </link>
  <link name="RWrMot2">
    <inertial>
      <origin rpy="0 0 0" xyz="0.009819377 -0.0013797184 -0.080380065"/>
      <mass value="1.2838072"/>
      <inertia ixx="0.001994124" ixy="-2.569706e-05" ixz="0.00017443538" iyy="0.0021755329" iyz="0.00012100987" izz="0.001830376"/>
    </inertial>
    <visual>
      <origin rpy="0 0 0" xyz="0 0 0"/>
      <geometry name="RWrMot2_visual">
        <mesh filename="package://bigman_urdf/meshes/ForearmPitch.STL" scale="0.001 0.001 0.001"/>
      </geometry>
      <material name="dark_grey"/>
    </visual>
    <collision>
      <origin rpy="0 0 0" xyz="0 0 0"/>
      <geometry name="RWrMot2_collision">
        <mesh filename="package://bigman_urdf/meshes/simple/ForearmPitch.STL" scale="0.001 0.001 0.001"/>
      </geometry>
    </collision>
  </link>
  <link name="RWrMot3">
    <inertial>
      <origin rpy="0 0 0" xyz="0.0070380706 1.0811188e-05 -0.039669274"/>
      <mass value="4.2801447e-01"/>
      <inertia ixx="0.00028620156" ixy="-5.2570457e-08" ixz="-3.9174213e-05" iyy="0.00071261855" iyz="9.5020266e-08" izz="0.00061444258"/>
    </inertial>
    <visual>
      <origin rpy="0 0 0" xyz="0 0 0"/>
      <geometry name="RWrMot3_visual">
        <mesh filename="package://bigman_urdf/meshes/ForearmRoll.STL" scale="0.001 0.001 0.001"/>
      </geometry>
      <material name="blue"/>
    </visual>
    <collision>
      <origin rpy="0 0 0" xyz="0 0 0"/>
      <geometry name="RWrMot3_collision">
        <mesh filename="package://bigman_urdf/meshes/simple/ForearmRoll.STL" scale="0.001 0.001 0.001"/>
      </geometry>
    </collision>
  </link>
  <!-- ****************JOINTS**************** -->
  <!-- ****************LEFT FOREARM**************** -->
  <joint name="LForearmPlate" type="revolute">
    <parent link="LElb"/>
    <child link="LForearm"/>
    <origin rpy="0 0 0" xyz="-0.075 0.0 -0.1955"/>
    <axis xyz="0 0 1"/>
    <limit effort="60" lower="-2.529" upper="2.529" velocity="6.283"/>
    <dynamics damping="0.03" friction="0"/>
  </joint>
  <joint name="LWrj1" type="revolute">
    <parent link="LForearm"/>
    <child link="LWrMot2"/>
    <origin rpy="0 0 0" xyz="0 0 0"/>
    <axis xyz="0 1 0"/>
    <limit effort="60" lower="-1.48" upper="1.48" velocity="6.283"/>
    <dynamics damping="0.03" friction="0"/>
  </joint>
  <joint name="LWrj2" type="revolute">
    <parent link="LWrMot2"/>
    <child link="LWrMot3"/>
    <origin rpy="0 0 0" xyz="0 0 -0.092"/>
    <axis xyz="1 0 0"/>
    <limit effort="60" lower="-1.48" upper="1.48" velocity="6.283"/>
    <dynamics damping="0.03" friction="0"/>
  </joint>
  <joint name="l_wrist_joint" type="fixed">
    <parent link="LWrMot3"/>
    <child link="l_wrist"/>
    <origin rpy="0 0 0" xyz="0 0 0"/>
  </joint>
  <!-- ****************RIGHT FOREARM**************** -->
  <joint name="RForearmPlate" type="revolute">
    <parent link="RElb"/>
    <child link="RForearm"/>
    <origin rpy="0 0 0" xyz="-0.075 0.0 -0.1955"/>
    <axis xyz="0 0 1"/>
    <limit effort="60" lower="-2.529" upper="2.529" velocity="6.283"/>
    <dynamics damping="0.03" friction="0"/>
  </joint>
  <joint name="RWrj1" type="revolute">
    <parent link="RForearm"/>
    <child link="RWrMot2"/>
    <origin rpy="0 0 0" xyz="0 0 0"/>
    <axis xyz="0 1 0"/>
    <limit effort="60" lower="-1.48" upper="1.48" velocity="6.283"/>
    <dynamics damping="0.03" friction="0"/>
  </joint>
  <joint name="RWrj2" type="revolute">
    <parent link="RWrMot2"/>
    <child link="RWrMot3"/>
    <origin rpy="0 0 0" xyz="0 0 -0.092"/>
    <axis xyz="1 0 0"/>
    <limit effort="60" lower="-1.48" upper="1.48" velocity="6.283"/>
    <dynamics damping="0.03" friction="0"/>
  </joint>
  <joint name="r_wrist_joint" type="fixed">
    <parent link="RWrMot3"/>
    <child link="r_wrist"/>
    <origin rpy="0 0 0" xyz="0 0 0"/>
  </joint>
  <!-- For the hand we use the inertia of a parallelepiped -->
  <!-- LINKS -->
  <link name="RSoftHand"/>
  <link name="TCP_R"/>
  <link name="RSoftHandLink">
    <inertial>
      <origin rpy="0 0 0" xyz="0 0 -0.17"/>
      <mass value="1.2"/>
      <inertia ixx="0.00232" ixy="0" ixz="0" iyy="0.00296" iyz="0" izz="0.00136"/>
    </inertial>
    <visual>
      <origin rpy="0.0 0.0 0.0" xyz="0.0 0.0 0.0"/>
      <geometry name="RSoftHandLink_visual">
        <mesh filename="package://bigman_urdf/meshes/SoftHandOpen.STL" scale="0.001 0.001 0.001"/>
      </geometry>
      <material name="grey"/>
    </visual>
    <collision>
      <origin rpy="0.0 0.0 0.0" xyz="0.0 0.0 0.0"/>
      <geometry name="RSoftHandLink_collision">
        <mesh filename="package://bigman_urdf/meshes/simple/SoftHandOpen.STL" scale="0.001 0.001 0.001"/>
      </geometry>
    </collision>
  </link>
  <link name="r_hand_upper_right_link"/>
  <link name="r_hand_lower_right_link"/>
  <link name="r_hand_upper_left_link"/>
  <link name="r_hand_lower_left_link"/>
  <link name="LSoftHand"/>
  <link name="TCP_L"/>
  <link name="LSoftHandLink">
    <inertial>
      <origin rpy="0 0 0" xyz="0 0 -0.17"/>
      <mass value="1.2"/>
      <inertia ixx="0.00232" ixy="0" ixz="0" iyy="0.00296" iyz="0" izz="0.00136"/>
    </inertial>
    <visual>
      <origin rpy="0.0 0.0 0.0" xyz="0.0 0.0 0.0"/>
      <geometry name="LSoftHandLink_visual">
        <mesh filename="package://bigman_urdf/meshes/SoftHandOpen.STL" scale="0.001 -0.001 0.001"/>
      </geometry>
      <material name="grey"/>
    </visual>
    <collision>
      <origin rpy="0.0 0.0 0.0" xyz="0.0 0.0 0.0"/>
      <geometry name="LSoftHandLink_collision">
        <mesh filename="package://bigman_urdf/meshes/simple/SoftHandOpen.STL" scale="0.001 -0.001 0.001"/>
      </geometry>
    </collision>
  </link>
  <link name="l_hand_upper_right_link"/>
  <link name="l_hand_lower_right_link"/>
  <link name="l_hand_upper_left_link"/>
  <link name="l_hand_lower_left_link"/>
  <!-- JOINTS -->
  <joint name="r_handj" type="fixed">
    <parent link="RWrMot3"/>
    <child link="RSoftHandLink"/>
    <origin rpy="0 0 0" xyz="0 0 0"/>
  </joint>
  <joint name="r_handj2" type="fixed">
    <parent link="RSoftHandLink"/>
    <child link="RSoftHand"/>
    <origin rpy="0 0 0" xyz="0 0.0305 -0.21"/>
  </joint>
  <joint name="r_handj3" type="fixed">
    <parent link="RSoftHand"/>
    <child link="r_hand_upper_right_link"/>
    <origin rpy="0 0 0" xyz="0.05 0.0 0.0"/>
  </joint>
  <joint name="r_handj4" type="fixed">
    <parent link="RSoftHand"/>
    <child link="r_hand_lower_right_link"/>
    <origin rpy="0 0 0" xyz="-0.05 0.0 0.0"/>
  </joint>
  <joint name="r_handj5" type="fixed">
    <parent link="RSoftHand"/>
    <child link="r_hand_upper_left_link"/>
    <origin rpy="0 0 0" xyz="0.05 0.0 0.1"/>
  </joint>
  <joint name="r_handj6" type="fixed">
    <parent link="RSoftHand"/>
    <child link="r_hand_lower_left_link"/>
    <origin rpy="0 0 0" xyz="-0.05 0.0 0.1"/>
  </joint>
  <joint name="l_handj" type="fixed">
    <parent link="LWrMot3"/>
    <child link="LSoftHandLink"/>
    <origin rpy="0 0 0" xyz="0 0 0"/>
  </joint>
  <joint name="l_handj2" type="fixed">
    <parent link="LSoftHandLink"/>
    <child link="LSoftHand"/>
    <origin rpy="0 0 0" xyz="0 -0.0305 -0.21"/>
  </joint>
  <joint name="l_handj3" type="fixed">
    <parent link="LSoftHand"/>
    <child link="l_hand_upper_right_link"/>
    <origin rpy="0 0 0" xyz="0.05 0.0 0.0"/>
  </joint>
  <joint name="l_handj4" type="fixed">
    <parent link="LSoftHand"/>
    <child link="l_hand_lower_right_link"/>
    <origin rpy="0 0 0" xyz="-0.05 0.0 0.0"/>
  </joint>
  <joint name="l_handj5" type="fixed">
    <parent link="LSoftHand"/>
    <child link="l_hand_upper_left_link"/>
    <origin rpy="0 0 0" xyz="0.05 0.0 0.1"/>
  </joint>
  <joint name="l_handj6" type="fixed">
    <parent link="LSoftHand"/>
    <child link="l_hand_lower_left_link"/>
    <origin rpy="0 0 0" xyz="-0.05 0.0 0.1"/>
  </joint>
  <joint name="TCP_Ljoint" type="fixed">
    <parent link="LSoftHand"/>
    <child link="TCP_L"/>
    <origin rpy="1.57079632679 3.14159265359 0" xyz="0.0 0.0 0.0"/>
  </joint>
  <joint name="TCP_Rjoint" type="fixed">
    <parent link="RSoftHand"/>
    <child link="TCP_R"/>
    <origin rpy="-1.57079632679 0 0" xyz="0.0 0.0 0.0"/>
  </joint>
  <link name="imu_link">
    <inertial>
      <mass value="0.01"/>
      <origin xyz="0 0 0"/>
      <inertia ixx="1.0E-6" ixy="0" ixz="0" iyy="1.0E-6" iyz="0" izz="1.0E-6"/>
    </inertial>
    <visual>
      <origin rpy="0 0 0" xyz="0 0 0"/>
      <geometry>
        <box size="0.01 0.01 0.01"/>
      </geometry>
    </visual>
  </link>
  <link name="imu_link2">
    <inertial>
      <mass value="0.01"/>
      <origin xyz="0 0 0"/>
      <inertia ixx="1.0E-6" ixy="0" ixz="0" iyy="1.0E-6" iyz="0" izz="1.0E-6"/>
    </inertial>
    <visual>
      <origin rpy="0 0 0" xyz="0 0 0"/>
      <geometry>
        <box size="0.01 0.01 0.01"/>
      </geometry>
    </visual>
  </link>
  <joint name="imu_joint" type="fixed">
    <parent link="Waist"/>
    <child link="imu_link"/>
    <origin rpy="0 0 0" xyz="0.0535 0.0 0.0601"/>
  </joint>
  <joint name="imu_joint2" type="fixed">
    <parent link="Waist"/>
    <child link="imu_link2"/>
    <origin rpy="0 0 0" xyz="0.0135 0.0 0.0601"/>
  </joint>
</robot>
